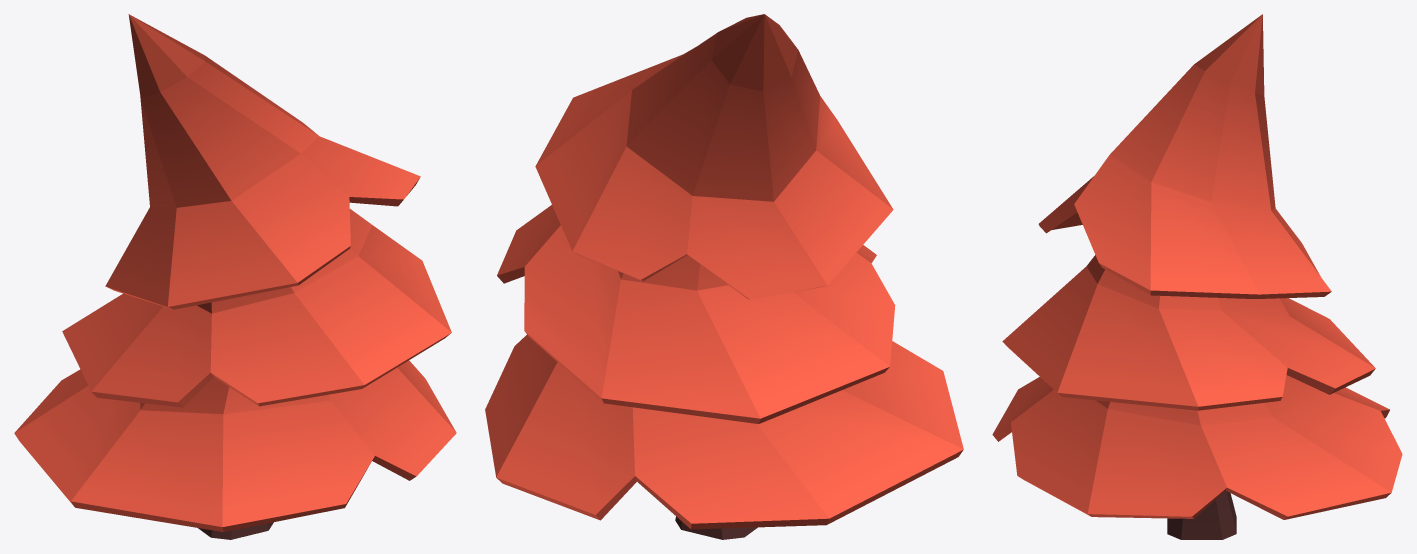
Rendered from RedPine4.fbx.
3 renders of one model, left to right at view 1: azimuth 30°, elevation 25°; view 2: azimuth 150°, elevation 25°; view 3: azimuth 270°, elevation 25°, orthographic. The views are drawn at different scales.
Visible parts, largest first — view 1: RedPine4; view 2: RedPine4; view 3: RedPine4.
Part boxes in pixels (left/top/right/bottom): RedPine4: left=14, top=14, right=456, bottom=539; RedPine4: left=485, top=14, right=963, bottom=539; RedPine4: left=992, top=14, right=1402, bottom=539.
Bounding box in the file's own units: 436 × 551 × 428.
